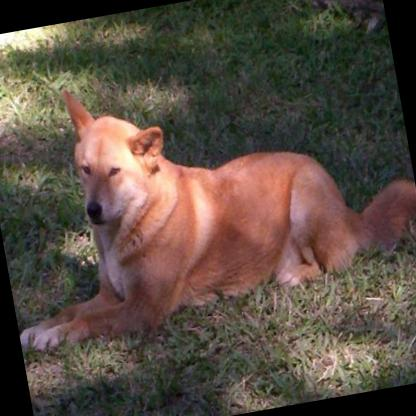dingo: (0, 26, 416, 356)
